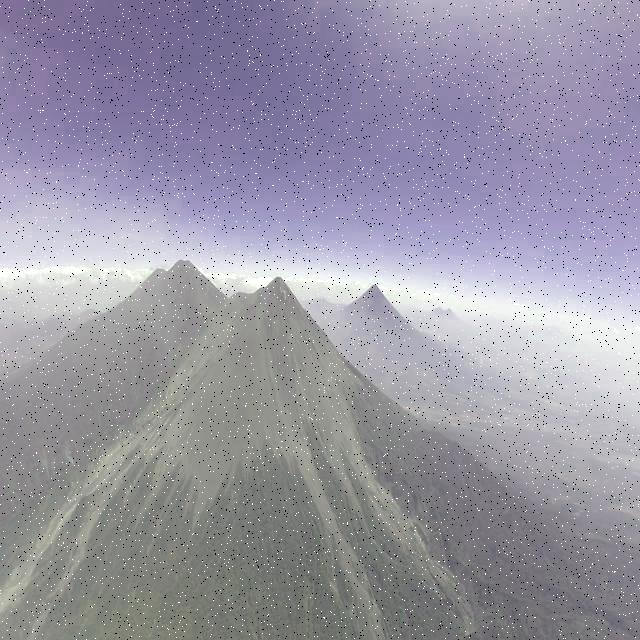Summit: (254, 273, 298, 301)
